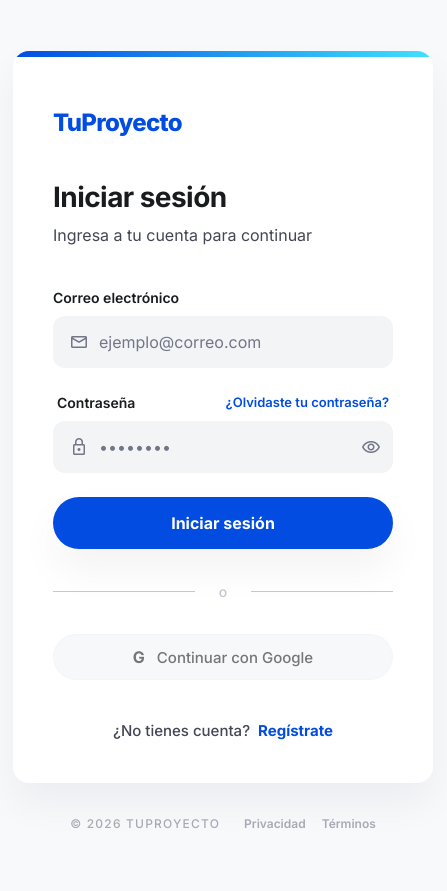
Test: LoginPage submit › muestra mensaje de error del servidor cuando falla
Step 1. Type "user@test.com" into the field labelled "Correo electrónico" → [223, 342], box [53,316,393,368]
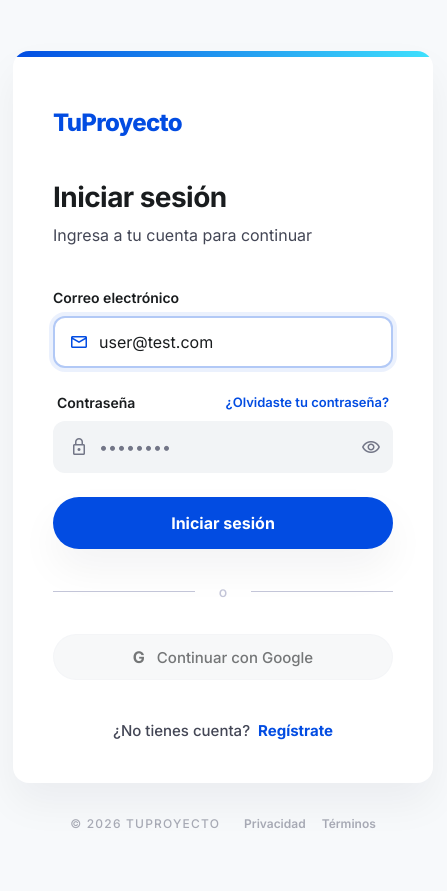
Step 2. Type "wrongpass" into the password field labelled "Contraseña" → [223, 447], box [53,421,393,473]
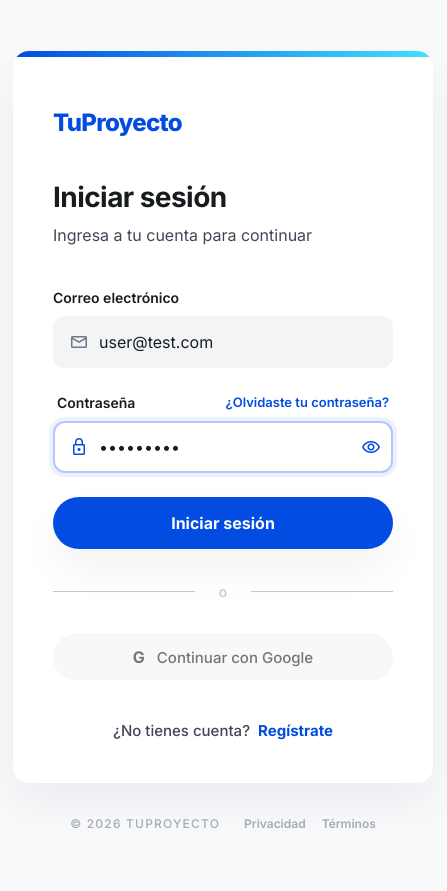
Step 3. Click the button "Iniciar sesión" → [223, 523], box [53,497,393,549]
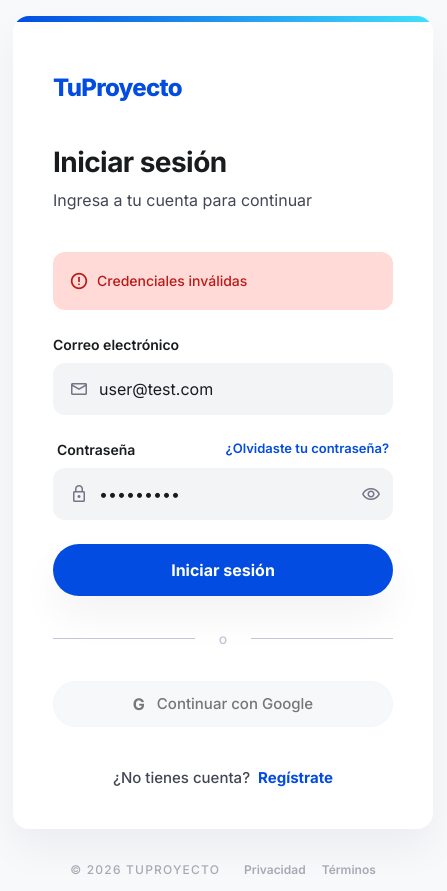
expect the text "Credenciales inválidas" is shown: met, box [53,252,393,310]
